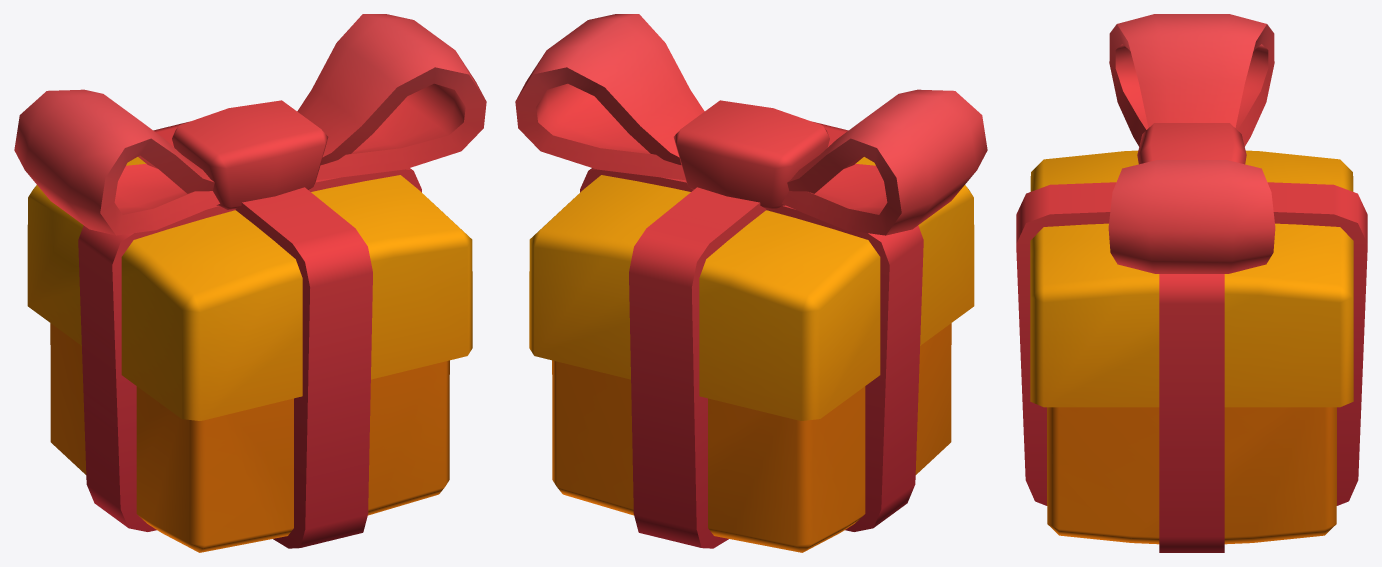
File: Present_004.fbx
3 views of the same model, side by side, from view 1: azimuth 30°, elevation 25°; view 2: azimuth 150°, elevation 25°; view 3: azimuth 270°, elevation 25° (orthographic). The views are drawn at different scales.
Visible parts, largest first — view 1: Present_004; view 2: Present_004; view 3: Present_004.
Boxes of the visible parts, box(x1,y1,x2,y2) form: Present_004: box(14, 14, 486, 552); Present_004: box(515, 14, 987, 552); Present_004: box(1016, 14, 1367, 552).
Size of the model in its own units: 0.7916 by 0.798 by 0.6151.
